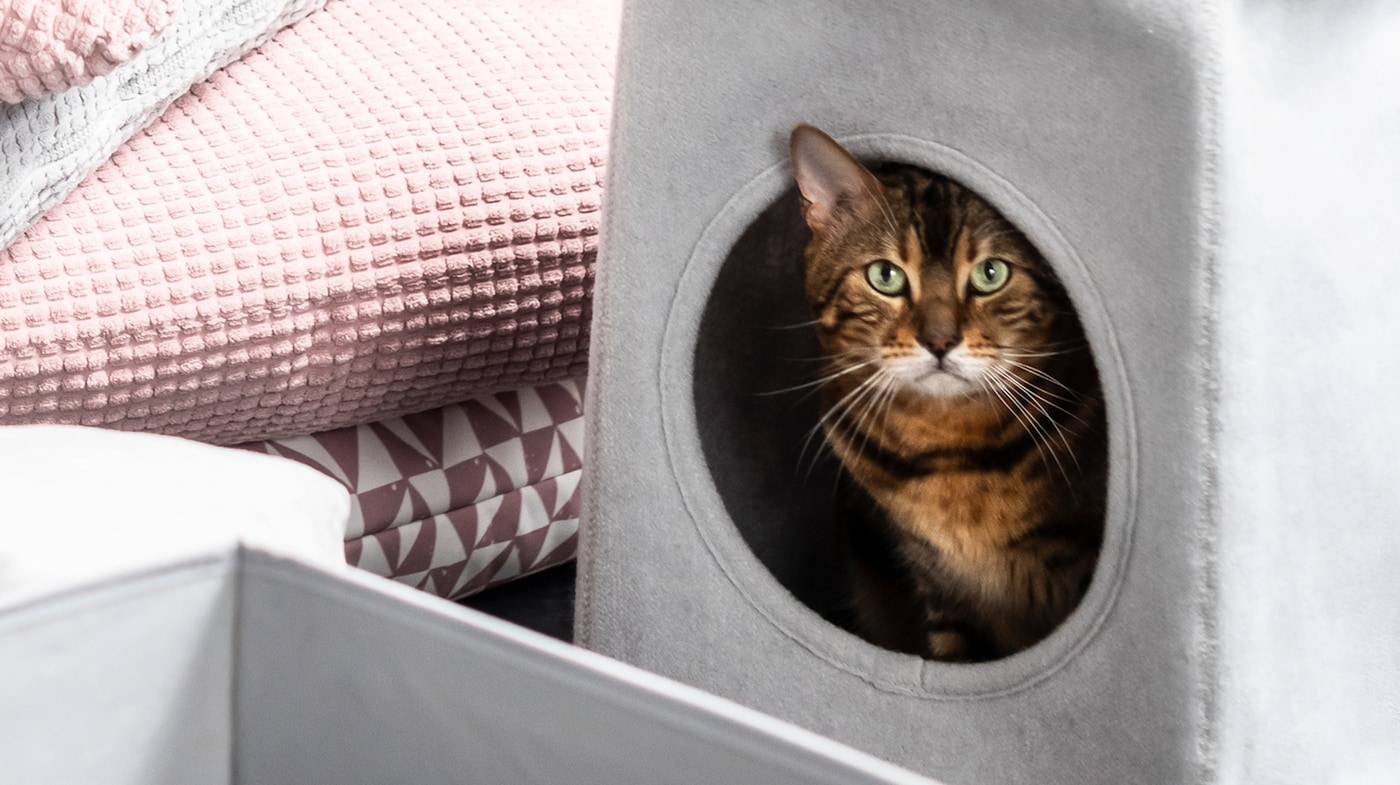pet: (798, 144, 1052, 632)
